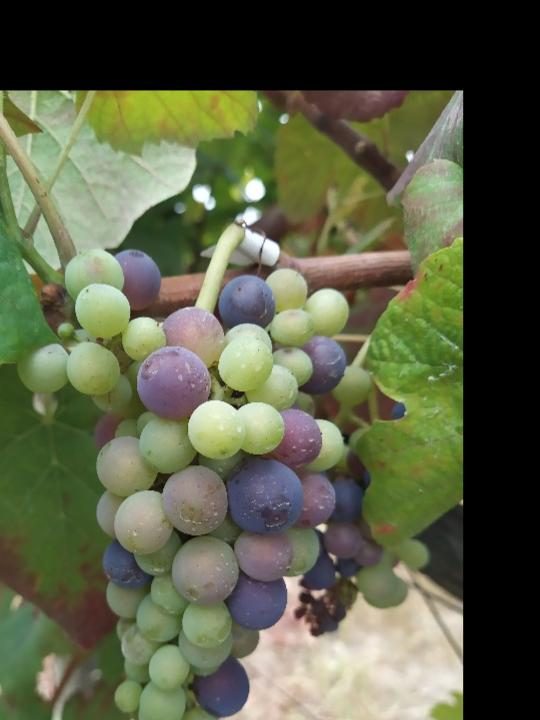grape: (13, 246, 351, 720)
